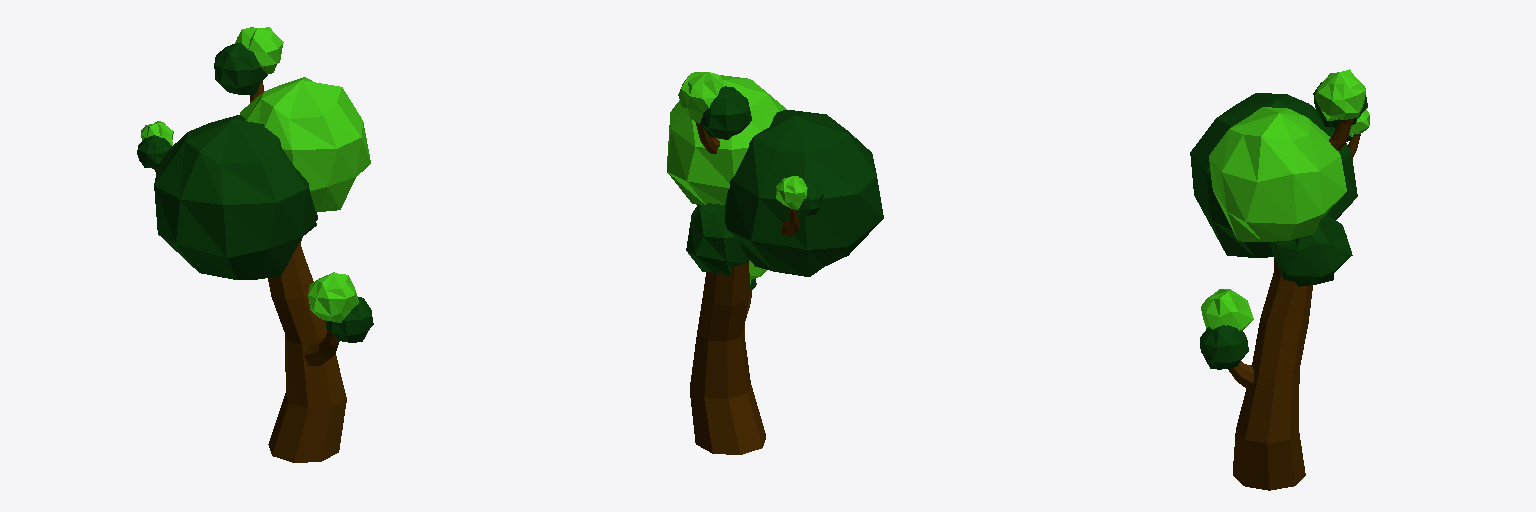
Rendered from tree1.obj.
The picture shows the model from 3 angles: view 1: azimuth 30°, elevation 25°; view 2: azimuth 150°, elevation 25°; view 3: azimuth 270°, elevation 25°; orthographic projection.
Parts seen in each view (by area): view 1: Circle; view 2: Circle; view 3: Circle.
Part boxes in pixels (left/top/right/bottom): Circle: left=137, top=27, right=373, bottom=462; Circle: left=667, top=72, right=883, bottom=454; Circle: left=1190, top=69, right=1369, bottom=490.
Bounding box in the file's own units: 6.18 × 11.96 × 4.9.